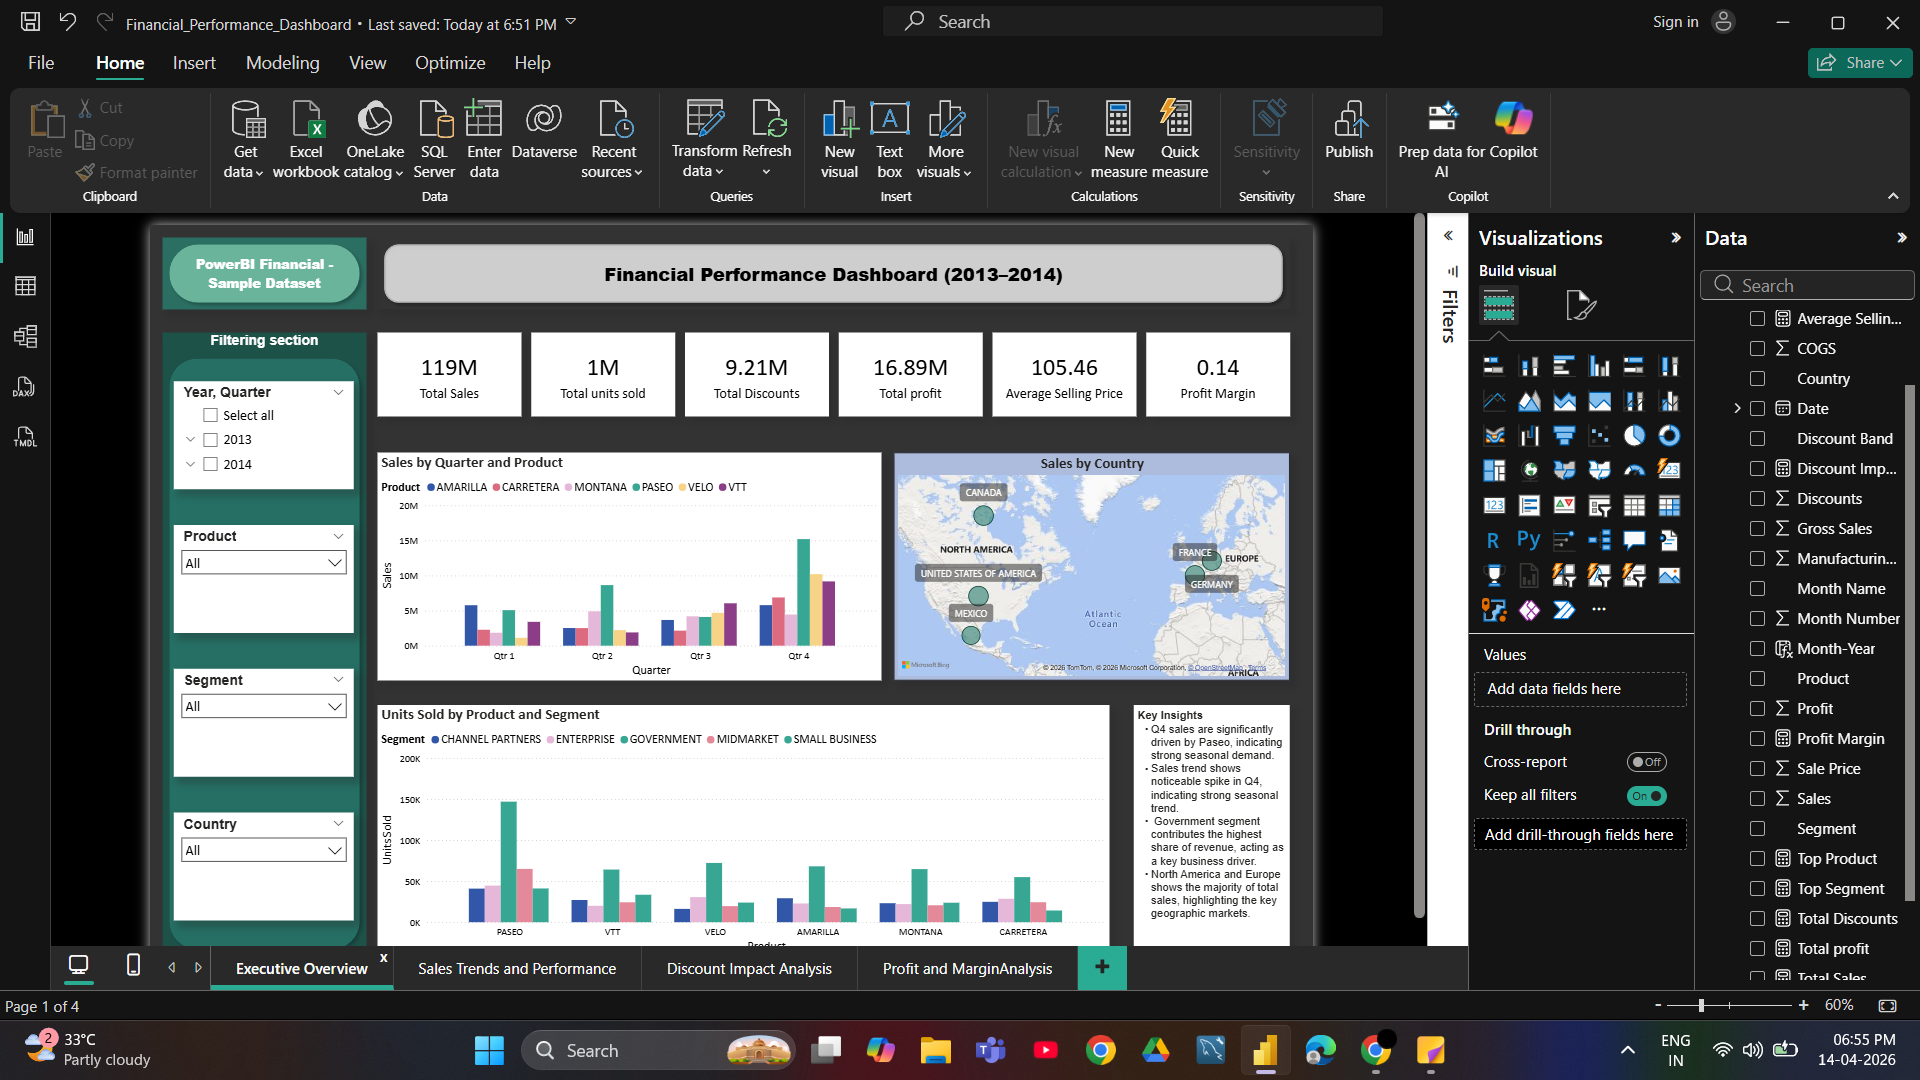

What the dashboard file says about the page in this screenshot:
{"tool":"powerbi","page":{"name":"Executive Overview","canvas":[1550,1000],"ordinal":0},"visuals":[{"type":"shape","title":"Filtering  section","box":[16,144,272,832],"z":0},{"type":"shape","title":"PowerBI Financial - Sample Dataset","box":[16,16,272,96],"z":1000},{"type":"shape","box":[304,16,1216,96],"z":2000},{"type":"card","fields":{"Values":["financials.Total Sales"]},"box":[304,144,192,112],"z":3000},{"type":"card","fields":{"Values":["financials.Total units sold"]},"box":[508.8,144,192,112],"z":4000},{"type":"card","fields":{"Values":["financials.Total Discounts on Products Sold"]},"box":[713.6,144,192,112],"z":5000},{"type":"card","fields":{"Values":["financials.Total profit"]},"box":[918.4,144,192,112],"z":6000},{"type":"card","fields":{"Values":["financials.Average Selling Price"]},"box":[1123.2,144,192,112],"z":7000},{"type":"card","fields":{"Values":["financials.Profit Margin"]},"box":[1328,144,192,112],"z":8000},{"type":"map","title":"Sales by Country","fields":{"Category":["financials.Country"],"Size":["Sum(financials.Sales)"]},"box":[992,304,528,304],"z":9000},{"type":"clusteredColumnChart","fields":{"Category":["financials.Product"],"Series":["financials.Segment"],"Y":["Sum(financials.Units Sold)"]},"box":[304,640,976,336],"z":10000},{"type":"slicer","fields":{"Values":["financials.Date.Variation.Date Hierarchy.Year","financials.Date.Variation.Date Hierarchy.Quarter"]},"box":[32,208,240,144],"z":11000},{"type":"slicer","fields":{"Values":["financials.Product"]},"box":[32,400,240,144],"z":12000},{"type":"slicer","fields":{"Values":["financials.Segment"]},"box":[32,592,240,144],"z":13000},{"type":"slicer","fields":{"Values":["financials.Country"]},"box":[32,784,240,144],"z":14000},{"type":"clusteredColumnChart","fields":{"Category":["financials.Date.Variation.Date Hierarchy.Quarter"],"Series":["financials.Product"],"Y":["Sum(financials.Sales)"]},"box":[304,304,672,304],"z":15000},{"type":"textbox","box":[1312,640,208,336],"z":16000}]}

Visuals, with their boxes on the page's 1550x1000 design canvas (x1, y1, x2, y2). These are canvas units, not pixel positions in the 1920x1080 screenshot, which may show the page scaled, cropped or inside an application window:
"Filtering  section" shape: 16 144 288 976
"PowerBI Financial - Sample Dataset" shape: 16 16 288 112
shape: 304 16 1520 112
card - financials.Total Sales: 304 144 496 256
card - financials.Total units sold: 509 144 701 256
card - financials.Total Discounts on Products Sold: 714 144 906 256
card - financials.Total profit: 918 144 1110 256
card - financials.Average Selling Price: 1123 144 1315 256
card - financials.Profit Margin: 1328 144 1520 256
"Sales by Country" map: 992 304 1520 608
clusteredColumnChart - financials.Product x financials.Segment: 304 640 1280 976
slicer - financials.Date.Variation.Date Hierarchy.Year x financials.Date.Variation.Date Hierarchy.Quarter: 32 208 272 352
slicer - financials.Product: 32 400 272 544
slicer - financials.Segment: 32 592 272 736
slicer - financials.Country: 32 784 272 928
clusteredColumnChart - financials.Date.Variation.Date Hierarchy.Quarter x financials.Product: 304 304 976 608
textbox: 1312 640 1520 976
